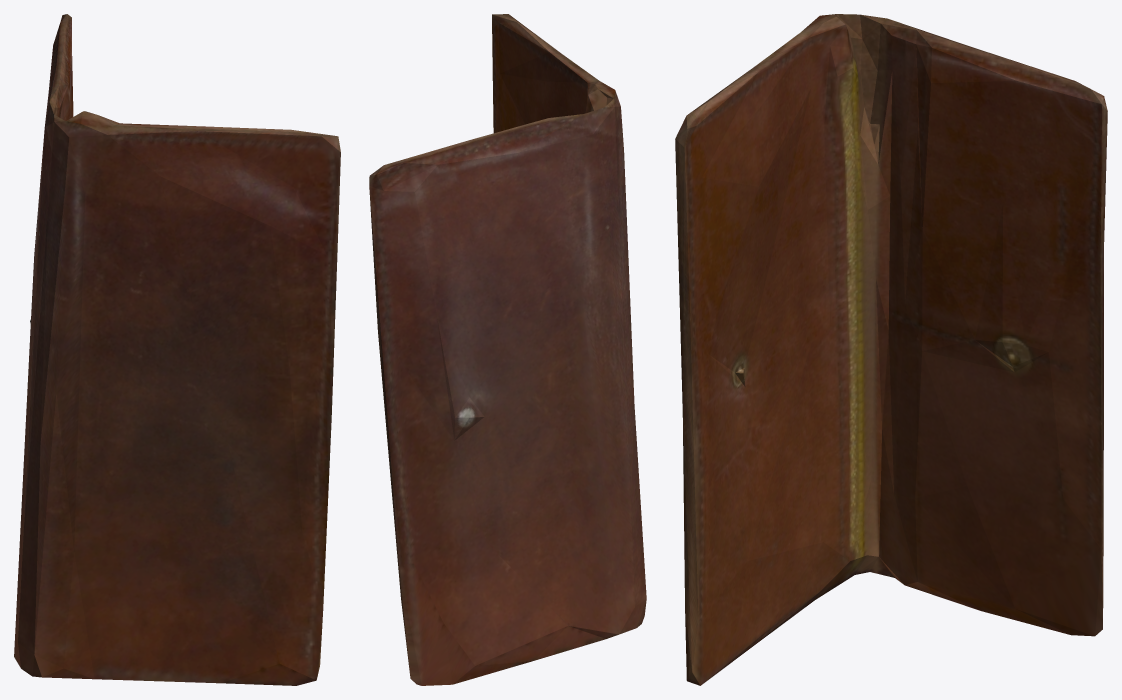
3 views of the same model, side by side, from view 1: azimuth 30°, elevation 25°; view 2: azimuth 150°, elevation 25°; view 3: azimuth 270°, elevation 25° (orthographic). The views are drawn at different scales.
Parts seen in each view (by area): view 1: Ledergeldbeutel_0.3k_512; view 2: Ledergeldbeutel_0.3k_512; view 3: Ledergeldbeutel_0.3k_512.
Part boxes in pixels (x1,y1,x2,y2): Ledergeldbeutel_0.3k_512: [14, 14, 340, 685]; Ledergeldbeutel_0.3k_512: [369, 14, 646, 685]; Ledergeldbeutel_0.3k_512: [675, 14, 1107, 685].
Bounding box in the file's own units: 0.0876 × 0.199 × 0.1321.
1 material, 1 textured.
